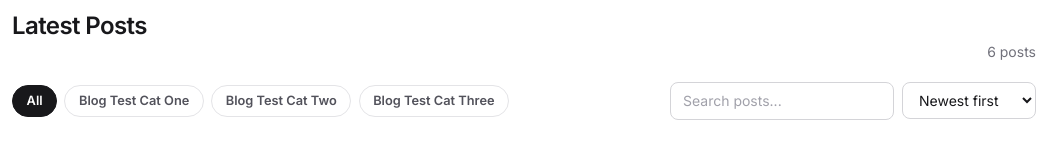
BlogPostGridFrontend › filters by category from the pill bar
The image size is (1048, 160).
Click the tab "Blog Test Cat Two": coordinates (281, 101) [211,85,351,117]
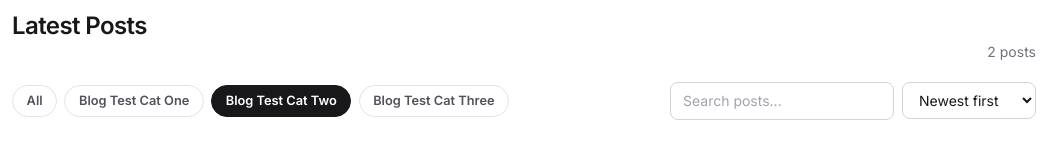
Expected: the text "2 posts" is shown, [987,42,1036,62]
